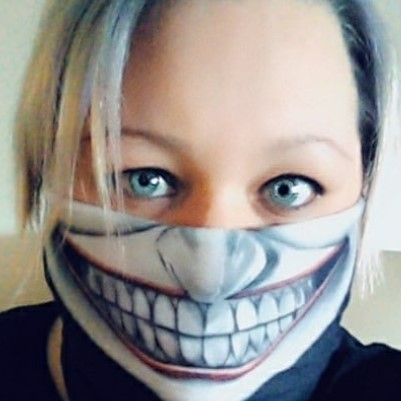face_with_mask: (35, 7, 384, 396)
